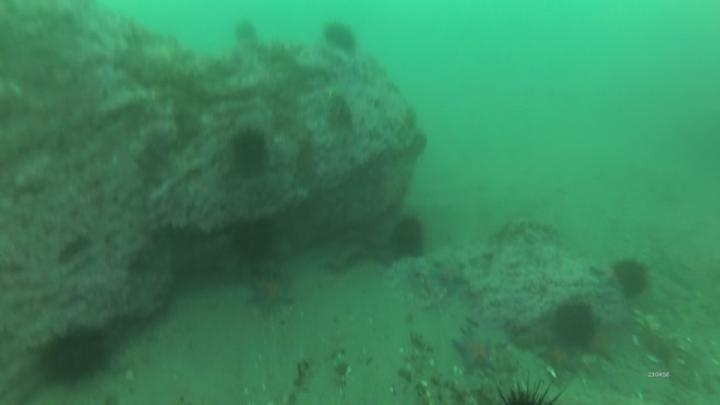echinus: (33, 324, 113, 389), (551, 298, 599, 348), (231, 219, 279, 265), (228, 127, 271, 178), (387, 214, 429, 262), (493, 378, 564, 405), (610, 256, 652, 300), (320, 19, 360, 56), (231, 18, 260, 48), (404, 129, 430, 161)
holothurian: (491, 214, 562, 247)
starfish: (243, 269, 296, 319), (450, 328, 499, 374), (582, 320, 624, 364), (427, 255, 471, 295), (536, 338, 580, 375), (587, 262, 620, 291)
